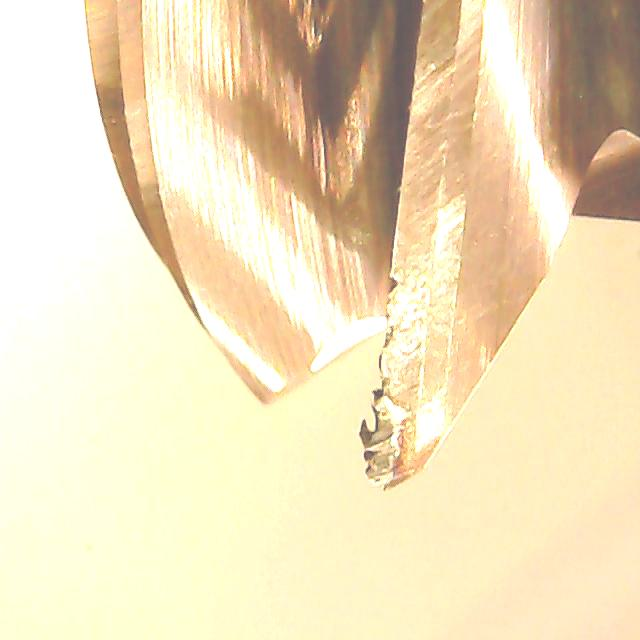Tool-wear-class-1: (357, 207, 460, 496)
